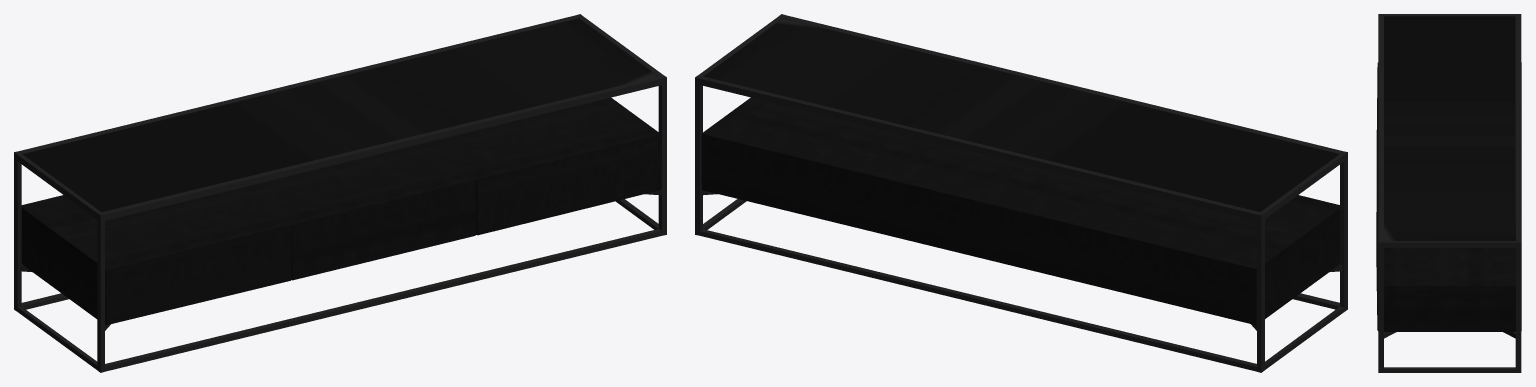
File: abo-B072ZMT5SD.glb
3 views of the same model, side by side, from view 1: azimuth 30°, elevation 25°; view 2: azimuth 150°, elevation 25°; view 3: azimuth 270°, elevation 25° (orthographic). The views are drawn at different scales.
Size of the model in its own units: 1.49 by 0.395 by 0.399.
1 material, 1 textured.
